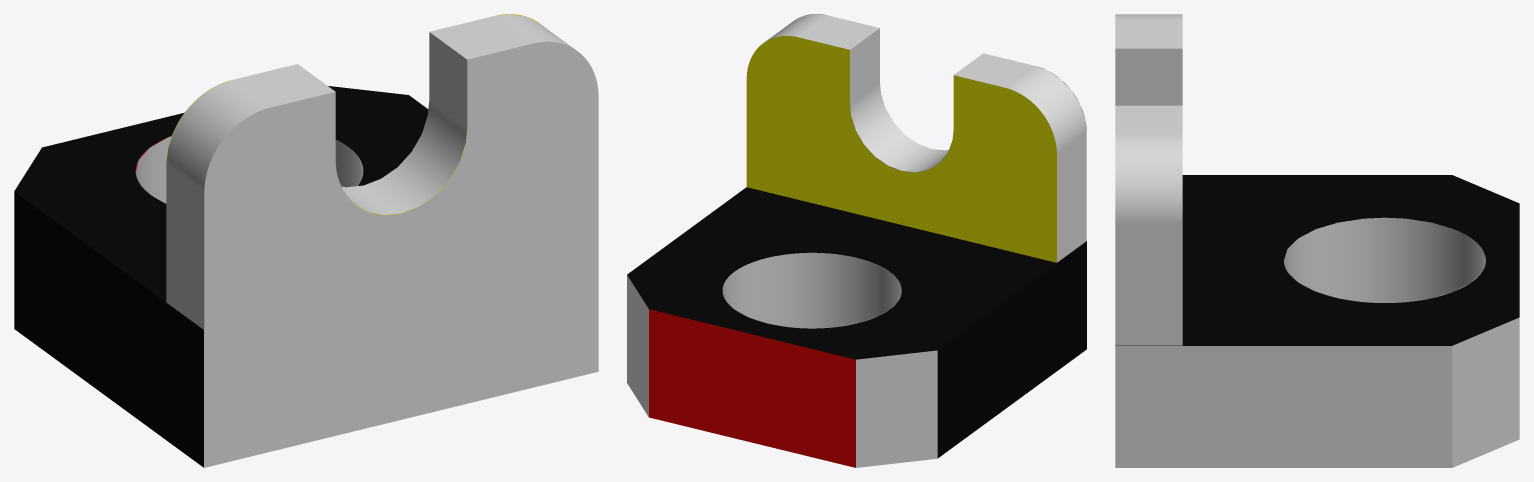
The model's file is Dealba_1.fbx.
3 renders of one model, left to right at view 1: azimuth 30°, elevation 25°; view 2: azimuth 150°, elevation 25°; view 3: azimuth 270°, elevation 25°, orthographic. The views are drawn at different scales.
Parts seen in each view (by area): view 1: 319_TRM_SRF, 341_TRM_SRF, 187_TRM_SRF, 599_TRM_SRF, 451_TRM_SRF, 667_TRM_SRF, 571_TRM_SRF, 641_TRM_SRF, 549_TRM_SRF, 243_TRM_SRF, 527_TRM_SRF; view 2: 481_TRM_SRF, 187_TRM_SRF, 385_TRM_SRF, 341_TRM_SRF, 215_TRM_SRF, 363_TRM_SRF, 599_TRM_SRF, 451_TRM_SRF, 667_TRM_SRF, 407_TRM_SRF, 571_TRM_SRF, 549_TRM_SRF (+2 smaller); view 3: 187_TRM_SRF, 429_TRM_SRF, 501_TRM_SRF, 407_TRM_SRF, 215_TRM_SRF, 243_TRM_SRF, 527_TRM_SRF, 621_TRM_SRF, 549_TRM_SRF, 641_TRM_SRF, 667_TRM_SRF.
Part boxes in pixels (<box>): 319_TRM_SRF: <box>204,41,598,467</box>; 341_TRM_SRF: <box>14,191,203,467</box>; 187_TRM_SRF: <box>14,86,428,329</box>; 599_TRM_SRF: <box>335,101,467,214</box>; 451_TRM_SRF: <box>166,165,204,329</box>; 667_TRM_SRF: <box>166,80,269,192</box>; 571_TRM_SRF: <box>429,32,467,127</box>; 641_TRM_SRF: <box>232,64,335,107</box>; 549_TRM_SRF: <box>429,16,532,59</box>; 243_TRM_SRF: <box>135,136,348,203</box>; 527_TRM_SRF: <box>495,14,573,48</box>; 481_TRM_SRF: <box>746,36,1056,262</box>; 187_TRM_SRF: <box>627,187,1084,359</box>; 385_TRM_SRF: <box>649,309,855,467</box>; 341_TRM_SRF: <box>937,241,1086,458</box>; 215_TRM_SRF: <box>734,252,901,328</box>; 363_TRM_SRF: <box>856,350,937,467</box>; 599_TRM_SRF: <box>850,82,953,172</box>; 451_TRM_SRF: <box>1057,133,1086,262</box>; 667_TRM_SRF: <box>1005,66,1086,153</box>; 407_TRM_SRF: <box>627,275,648,416</box>; 571_TRM_SRF: <box>850,28,879,103</box>; 549_TRM_SRF: <box>799,15,879,49</box>; 187_TRM_SRF: <box>1115,175,1519,345</box>; 429_TRM_SRF: <box>1115,346,1452,467</box>; 501_TRM_SRF: <box>1115,223,1182,345</box>; 407_TRM_SRF: <box>1452,317,1519,467</box>; 215_TRM_SRF: <box>1283,217,1384,302</box>; 243_TRM_SRF: <box>1385,217,1485,302</box>; 527_TRM_SRF: <box>1115,134,1182,223</box>; 621_TRM_SRF: <box>1115,48,1182,105</box>; 549_TRM_SRF: <box>1115,105,1182,133</box>; 641_TRM_SRF: <box>1115,20,1182,48</box>; 667_TRM_SRF: <box>1115,14,1182,20</box>.
Bounding box in the file's own units: 6 × 5 × 6.
